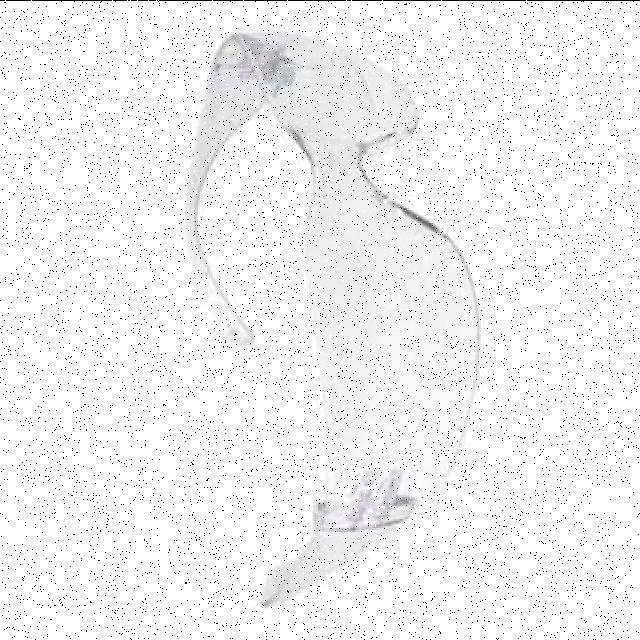Goggles: (162, 24, 488, 606)
